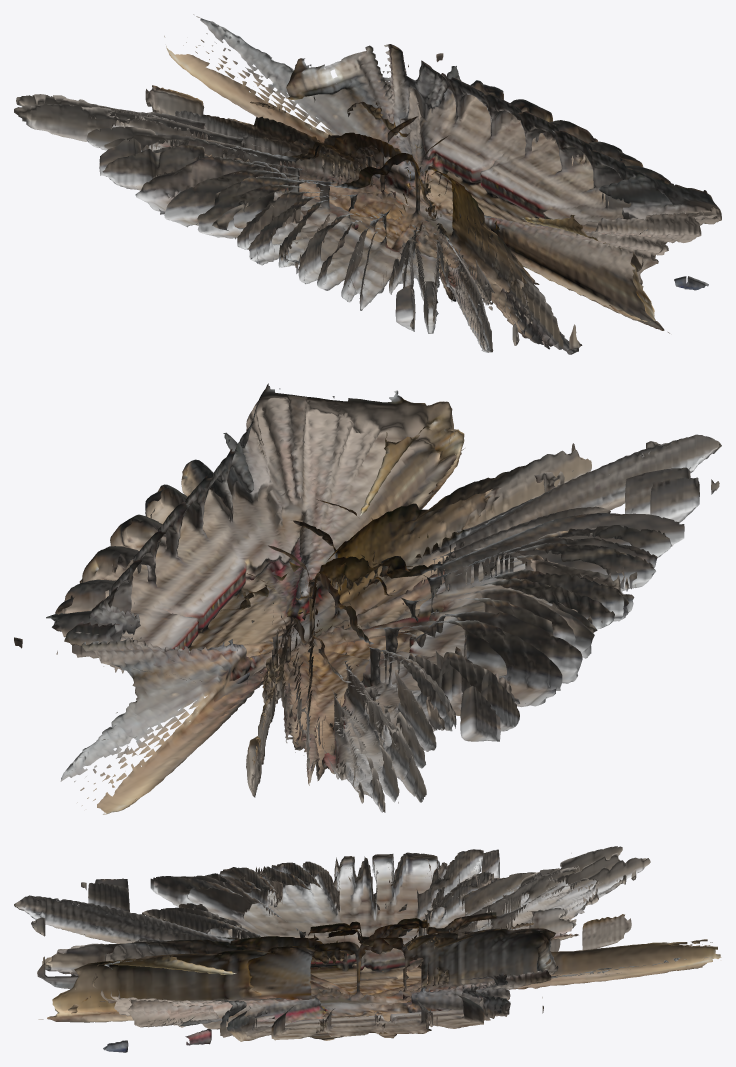
File: industrial-railway-terminal-collider.glb
3 views of the same model, one above another, from view 1: azimuth 30°, elevation 25°; view 2: azimuth 150°, elevation 25°; view 3: azimuth 270°, elevation 25° (orthographic). The views are drawn at different scales.
Visible parts, largest first — view 1: world; view 2: world; view 3: world.
Part boxes in pixels (x1,y1,x2,y2): world: [14, 14, 721, 354]; world: [14, 383, 721, 814]; world: [14, 846, 721, 1052].
Bounding box in the file's own units: 74.69 × 14.92 × 127.
